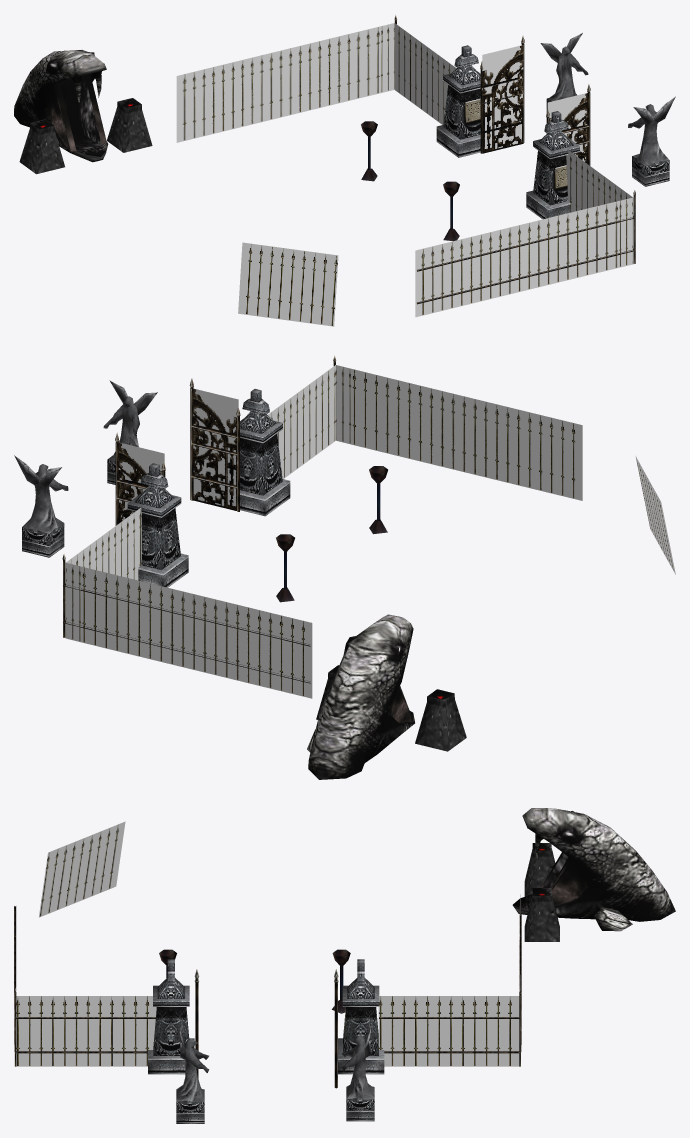
The model's file is yewaifangzi_003.FBX.
3 views of the same model, one above another, from view 1: azimuth 30°, elevation 25°; view 2: azimuth 150°, elevation 25°; view 3: azimuth 270°, elevation 25° (orthographic). The views are drawn at different scales.
Visible parts, largest first — view 1: Object007, shidun_002, shetou_003, yewaideng_004; view 2: Object007, shidun_002, shetou_003, yewaideng_004; view 3: Object007, shetou_003, shidun_002, yewaideng_004.
Boxes of the visible parts, <box> form: Object007: <box>176,23,633,326</box>; shidun_002: <box>394,14,675,304</box>; shetou_003: <box>14,50,152,174</box>; yewaideng_004: <box>361,121,459,241</box>; Object007: <box>65,365,675,698</box>; shidun_002: <box>14,355,336,683</box>; shetou_003: <box>307,614,466,779</box>; yewaideng_004: <box>276,466,387,602</box>; Object007: <box>16,821,520,1066</box>; shetou_003: <box>512,808,675,941</box>; shidun_002: <box>14,906,521,1123</box>; yewaideng_004: <box>159,949,350,1013</box>.
Bounding box in the file's own units: 1643 × 356 × 1867.
